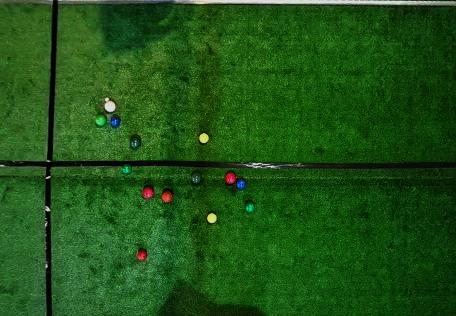blue: (110, 115, 121, 128), (236, 179, 246, 190)
green: (95, 114, 107, 126), (130, 136, 141, 148), (191, 172, 202, 184), (245, 201, 255, 213), (122, 164, 132, 174)
red: (143, 186, 154, 199), (104, 101, 116, 112), (225, 173, 236, 184), (137, 249, 147, 261), (162, 191, 172, 203)
vline: (1, 0, 58, 315)
white: (105, 97, 109, 101)
yellow: (199, 133, 209, 144), (207, 213, 217, 223)
